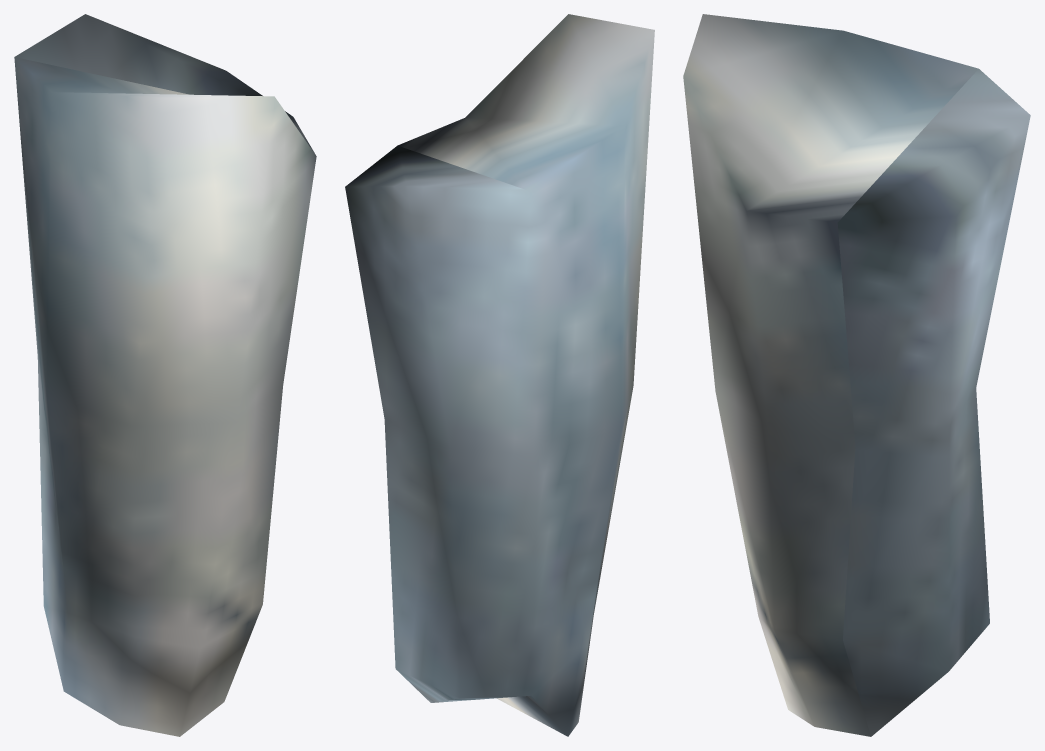
Rendered from minos_right_thigh.obj.
3 views of the same model, side by side, from view 1: azimuth 30°, elevation 25°; view 2: azimuth 150°, elevation 25°; view 3: azimuth 270°, elevation 25° (orthographic). The views are drawn at different scales.
Visible parts, largest first — view 1: Minos_Right_Thigh; view 2: Minos_Right_Thigh; view 3: Minos_Right_Thigh.
Part boxes in pixels (x1,y1,x2,y2): Minos_Right_Thigh: (14, 14, 316, 736); Minos_Right_Thigh: (345, 14, 654, 736); Minos_Right_Thigh: (683, 14, 1030, 736).
Bounding box in the file's own units: 0.1087 × 0.2973 × 0.1402.
1 material, 1 textured.
